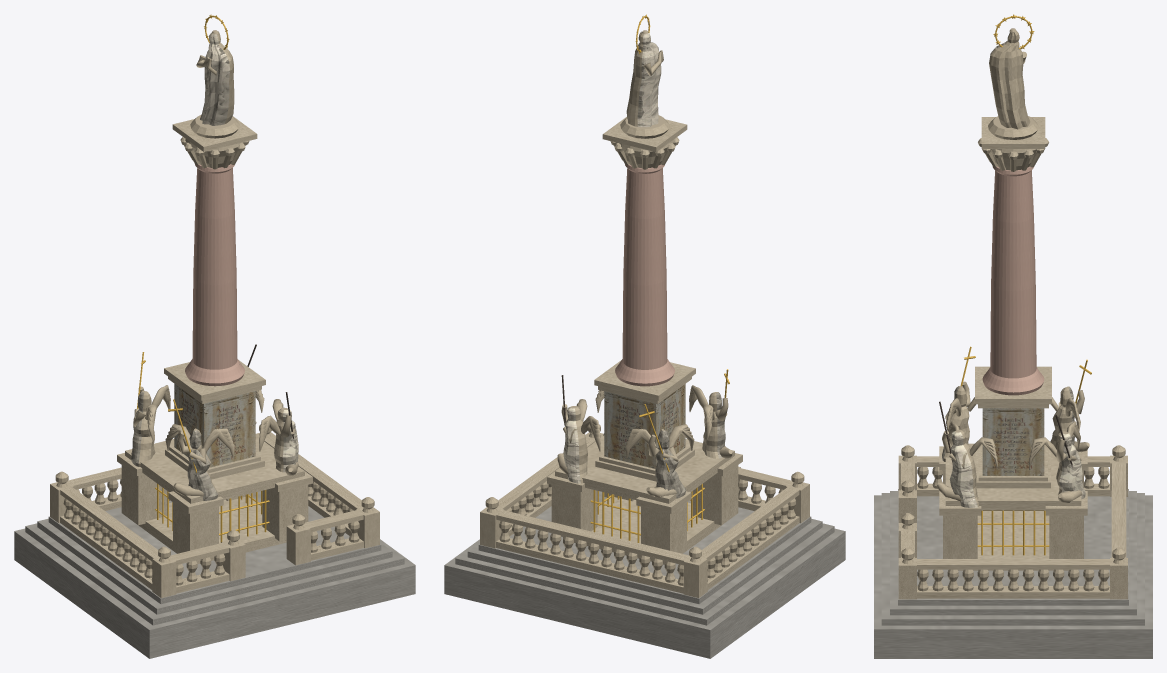
The model's file is old-town-sloup.glb.
3 renders of one model, left to right at view 1: azimuth 30°, elevation 25°; view 2: azimuth 150°, elevation 25°; view 3: azimuth 270°, elevation 25°, orthographic. The views are drawn at different scales.
Parts seen in each view (by area): view 1: Old Town Marian Column; view 2: Old Town Marian Column; view 3: Old Town Marian Column.
Part boxes in pixels (x1,y1,x2,y2): Old Town Marian Column: (14,14,415,658); Old Town Marian Column: (444,14,845,658); Old Town Marian Column: (874,14,1152,658).
Bounding box in the file's own units: 8.5 × 17.13 × 7.48.
1 material, 1 textured.
